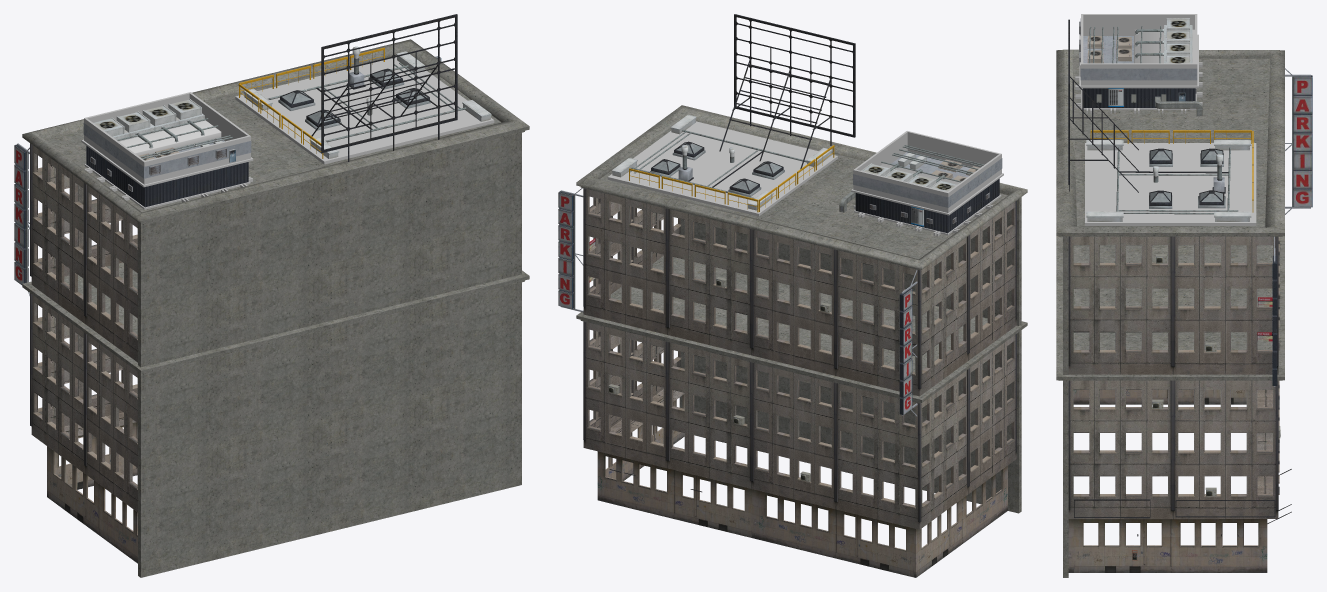
File: u2NWBuild4.gltf
3 renders of one model, left to right at view 1: azimuth 30°, elevation 25°; view 2: azimuth 150°, elevation 25°; view 3: azimuth 270°, elevation 25°, orthographic. The views are drawn at different scales.
Parts seen in each view (by area): view 1: u2NWBuild4; view 2: u2NWBuild4; view 3: u2NWBuild4.
Part boxes in pixels (bbox=[...]): u2NWBuild4: bbox=[14, 14, 529, 577]; u2NWBuild4: bbox=[558, 14, 1027, 577]; u2NWBuild4: bbox=[1056, 14, 1312, 577].
Size of the model in its own units: 13.77 by 15.4 by 7.69.
